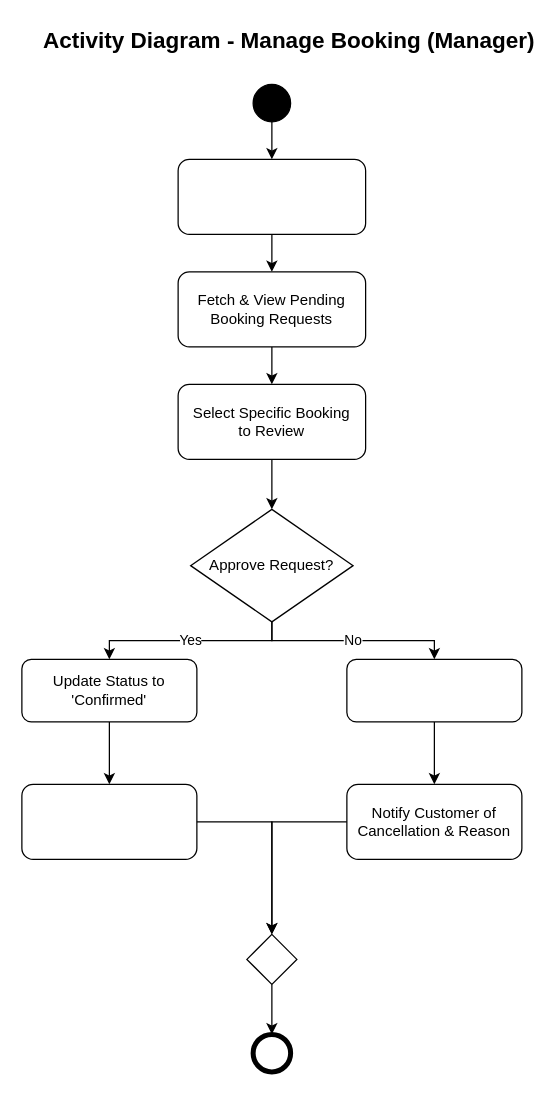
Some shapes in this 560 by 1095 pixel diagram are drawn without their labels. The shapes that lost their labels are listed below. From the top down, each one's centre as x and y in pixels, then its label:
At [271,196]: "Login to Manager Panel".
At [434,690]: "Update Status to 'Cancelled'".
At [109,821]: "Notify Customer of Confirmation".
